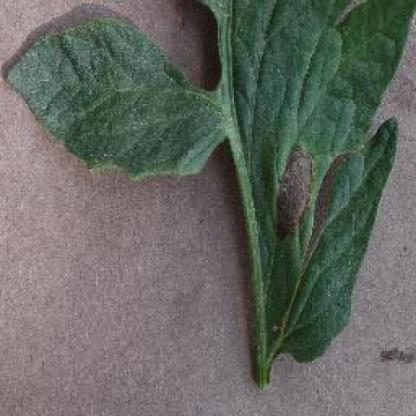Tomato_Blight: (7, 0, 412, 360)
